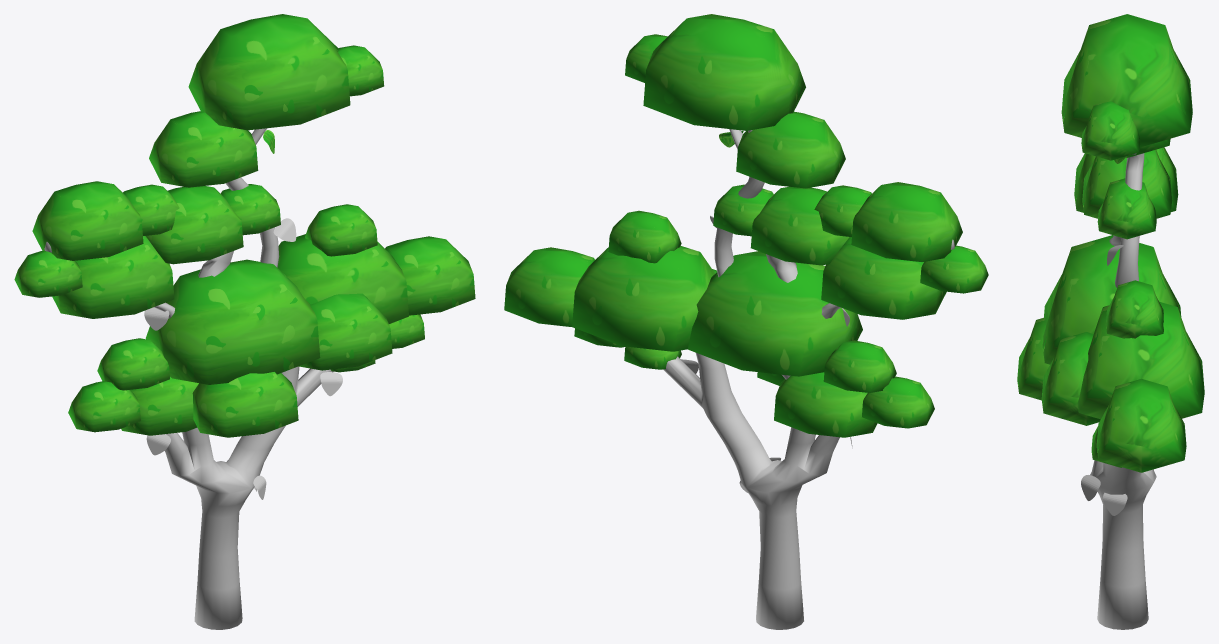
Rendered from Arbol_Definitivo.fbx.
3 views of the same model, side by side, from view 1: azimuth 30°, elevation 25°; view 2: azimuth 150°, elevation 25°; view 3: azimuth 270°, elevation 25° (orthographic). The views are drawn at different scales.
Visible parts, largest first — view 1: Cube.004, Cube.023, Cylinder, Cube.003, Cube.002, Cube.012, Cube.011, Cube.016, Cube.001, Cube.014, Cube.008, Cube (+8 smaller); view 2: Cylinder, Cube.023, Cube.004, Cube.002, Cube.003, Cube.011, Cube.012, Cube.001, Cube.008, Cube, Cube.009, Cube.022 (+6 smaller); view 3: Cube.023, Cylinder, Cube.002, Cube.004, Cube.008, Cube.014, Cube.001, Cube.022, Cube.007, Cube.005, Cube.016, Cube.011 (+2 smaller).
Boxes of the visible parts, x1,y1,x2,y2 form: Cube.004: (145, 259, 320, 384); Cube.023: (188, 14, 350, 130); Cylinder: (44, 128, 333, 629); Cube.003: (32, 181, 143, 260); Cube.002: (277, 234, 408, 323); Cube.012: (149, 111, 258, 187); Cube.011: (52, 236, 174, 318); Cube.016: (192, 372, 298, 437); Cube.001: (146, 186, 243, 264); Cube.014: (299, 293, 392, 370); Cube.008: (385, 236, 475, 315); Cube: (121, 377, 198, 435); Cylinder: (663, 129, 954, 629); Cube.023: (643, 14, 805, 130); Cube.004: (687, 251, 862, 376); Cube.002: (572, 246, 714, 351); Cube.003: (851, 182, 962, 261); Cube.011: (821, 237, 946, 319); Cube.012: (736, 111, 845, 188); Cube.001: (750, 186, 849, 265); Cube.008: (504, 247, 594, 326); Cube: (774, 372, 877, 437); Cube.009: (823, 340, 896, 392); Cube.022: (608, 210, 681, 263); Cube.023: (1061, 14, 1192, 147); Cylinder: (1090, 153, 1156, 629); Cube.002: (1077, 302, 1204, 419); Cube.004: (1042, 235, 1181, 364); Cube.008: (1096, 379, 1186, 472); Cube.014: (1041, 332, 1100, 425); Cube.001: (1082, 149, 1172, 218); Cube.022: (1106, 280, 1163, 338); Cube.007: (1081, 101, 1140, 160); Cube.005: (1097, 178, 1156, 239); Cube.016: (1017, 317, 1049, 400); Cube.011: (1074, 147, 1178, 212).
Bounding box in the file's own units: 415 × 506 × 139.
